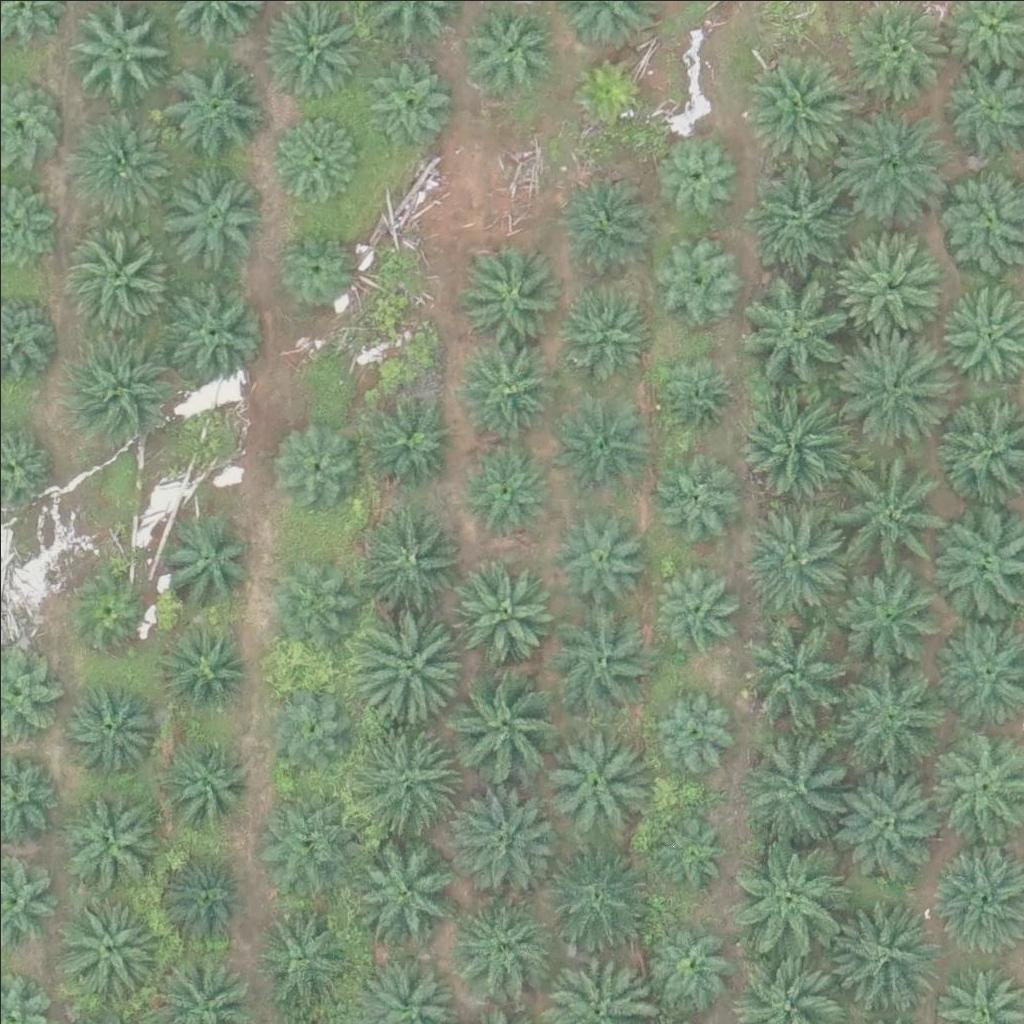Kelapa_Sawit: (832, 323, 945, 437), (826, 900, 939, 1014), (734, 502, 847, 615), (738, 383, 851, 496), (745, 267, 858, 380), (347, 835, 460, 948), (354, 719, 467, 832), (833, 765, 946, 878), (747, 151, 859, 265), (743, 47, 855, 161), (438, 552, 550, 666), (733, 840, 845, 954), (65, 324, 177, 437), (352, 492, 464, 605), (833, 102, 945, 215), (833, 229, 945, 342), (826, 454, 938, 567), (348, 606, 460, 719), (447, 674, 559, 787), (451, 783, 563, 896), (538, 842, 650, 955), (537, 723, 649, 836), (548, 602, 660, 715), (742, 731, 854, 844), (737, 621, 849, 734), (835, 566, 947, 679), (836, 657, 948, 770), (161, 57, 261, 158), (455, 333, 555, 434), (459, 241, 559, 342), (458, 1, 558, 102), (554, 285, 654, 386), (553, 176, 653, 277), (60, 674, 160, 775), (154, 506, 254, 607), (260, 786, 360, 887), (448, 890, 548, 991), (71, 112, 171, 212), (67, 236, 167, 336), (159, 280, 259, 380), (169, 156, 269, 256), (547, 512, 647, 612), (552, 383, 652, 483), (57, 889, 157, 989), (60, 785, 160, 885), (250, 901, 350, 1001), (272, 119, 360, 208), (562, 48, 650, 136), (273, 417, 361, 505), (366, 57, 454, 145), (461, 450, 549, 538), (653, 132, 741, 220), (649, 240, 737, 328), (157, 855, 245, 943), (160, 618, 248, 706), (271, 222, 358, 310), (366, 394, 453, 482), (652, 348, 739, 436), (652, 453, 739, 541), (166, 738, 253, 826), (265, 683, 352, 771), (269, 567, 356, 655), (649, 565, 736, 653), (649, 689, 736, 777), (638, 922, 725, 1010), (652, 811, 727, 887), (67, 576, 142, 652)
